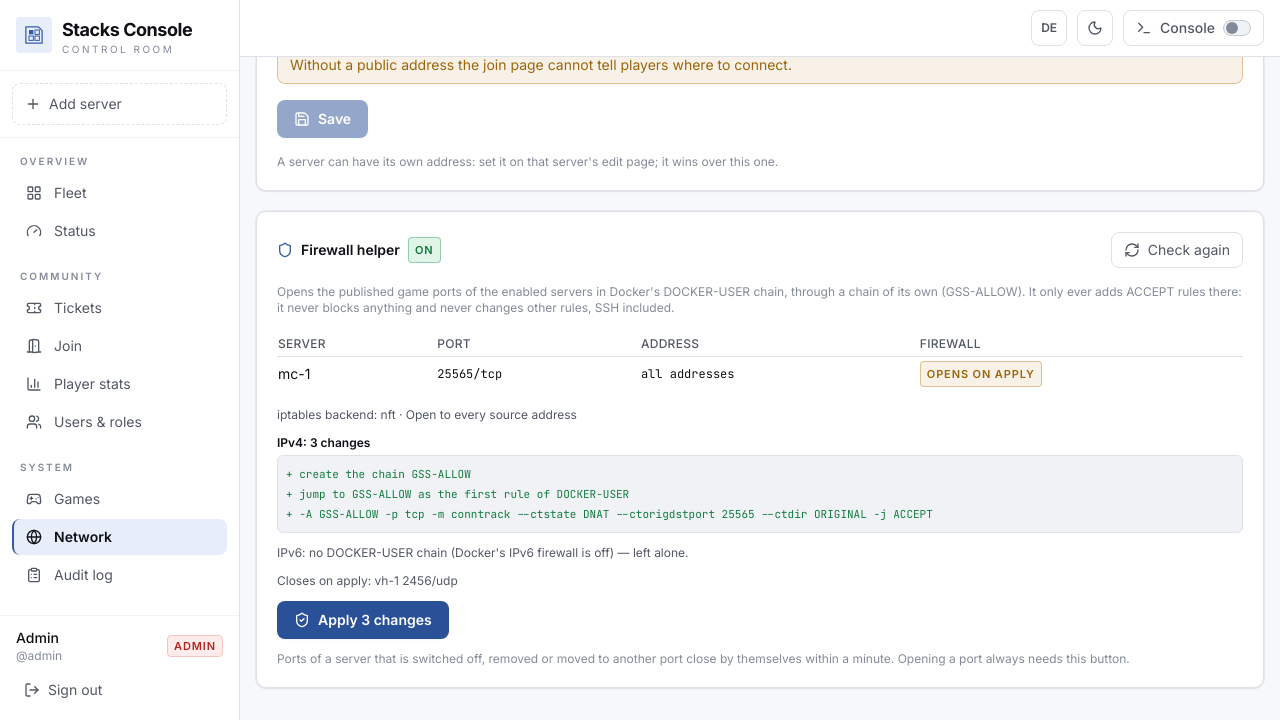
the firewall panel › reloads the preview when the plan changed in between
(page scrolled)
Click the button "Apply 3 changes".
click(363, 620)  # box [277, 601, 449, 639]
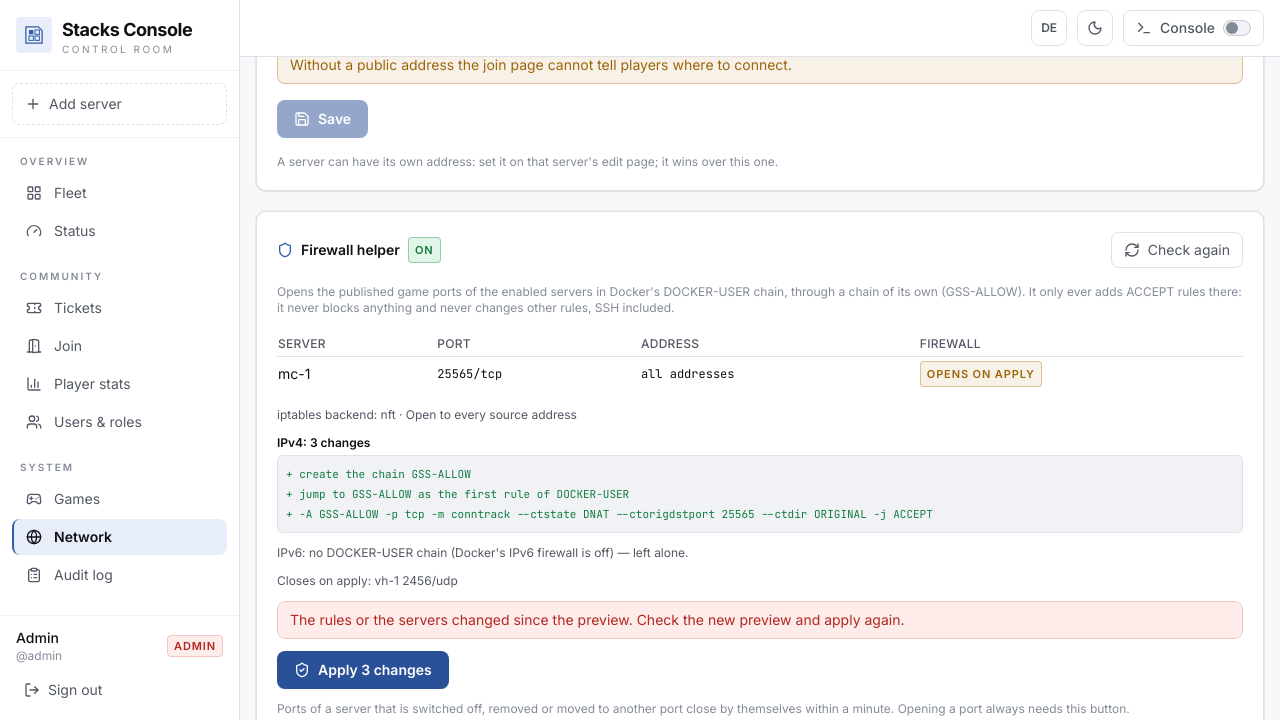
Check: the text "The rules or the servers changed since the preview. Check the new preview and apply again." is shown, box [290, 611, 904, 628]
